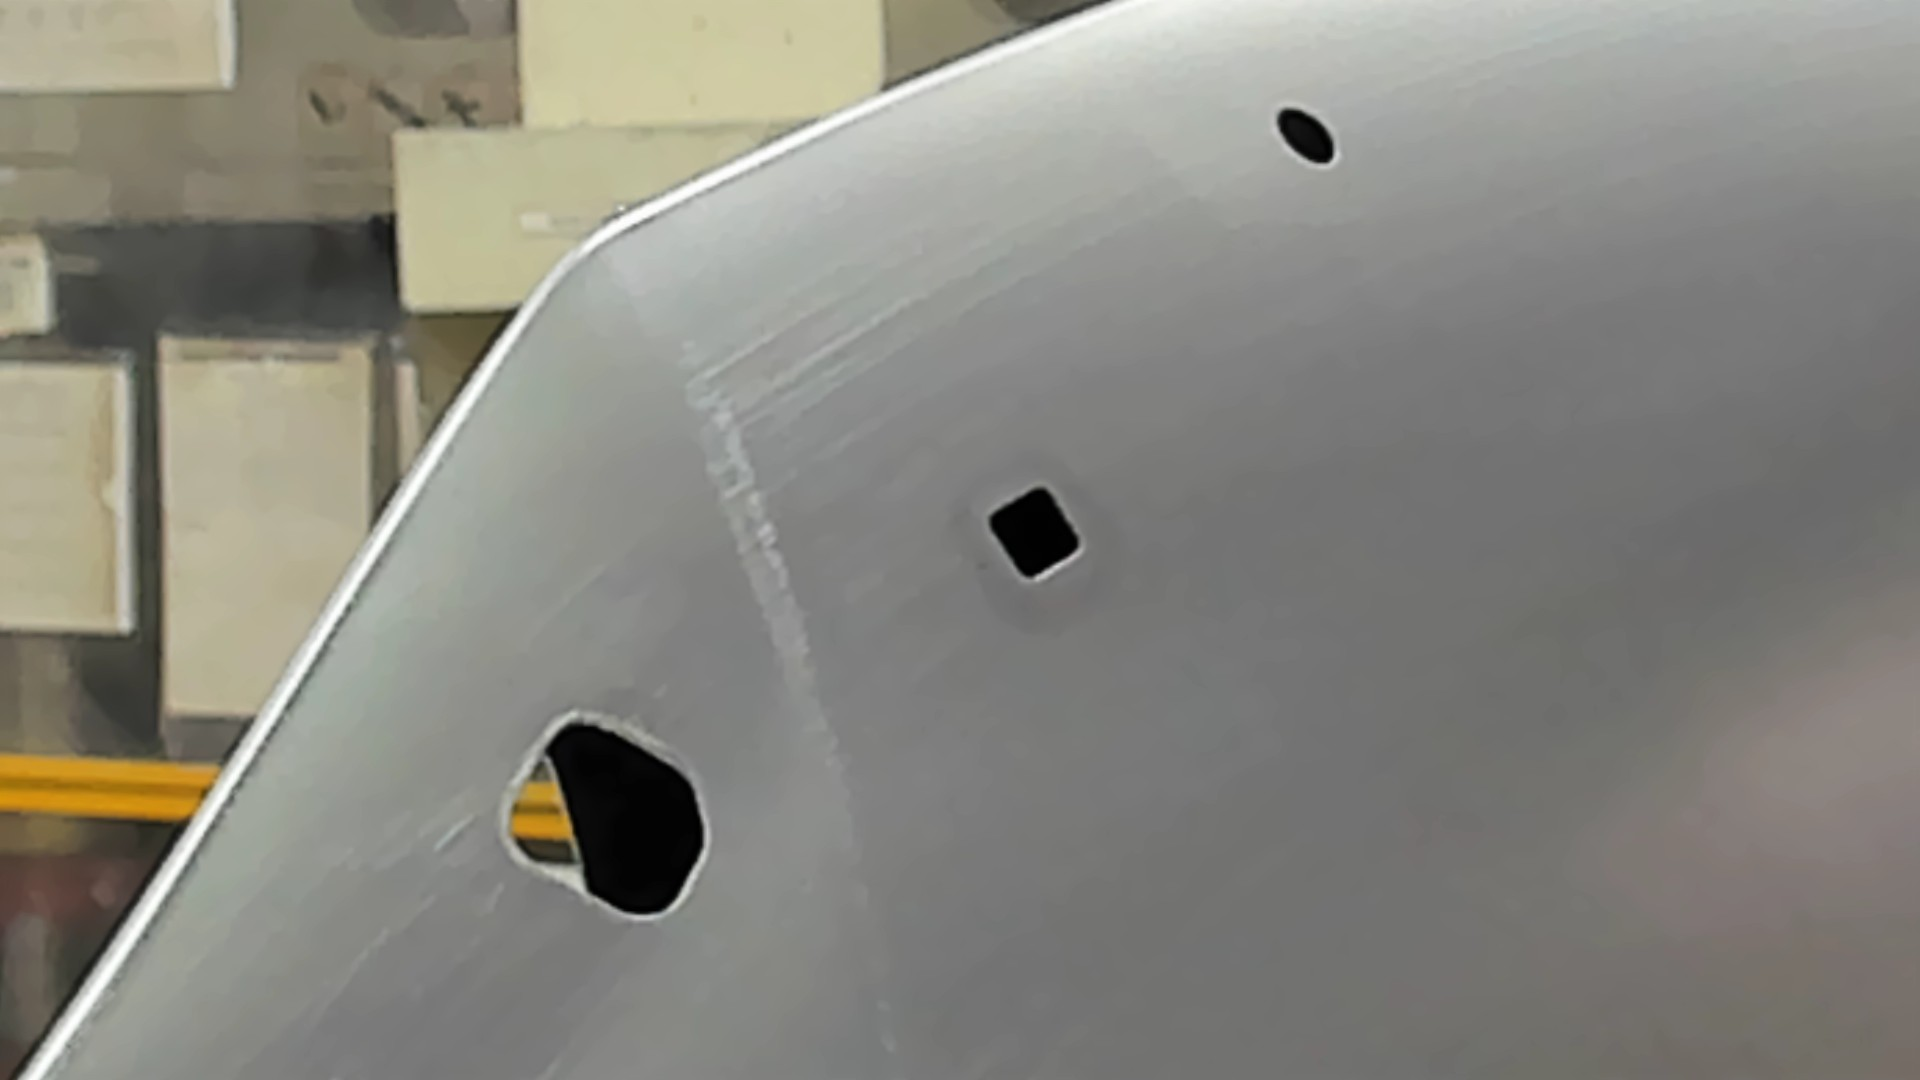chico: (1269, 98, 1346, 169)
grande: (495, 705, 717, 928)
mediano: (978, 477, 1092, 588)
